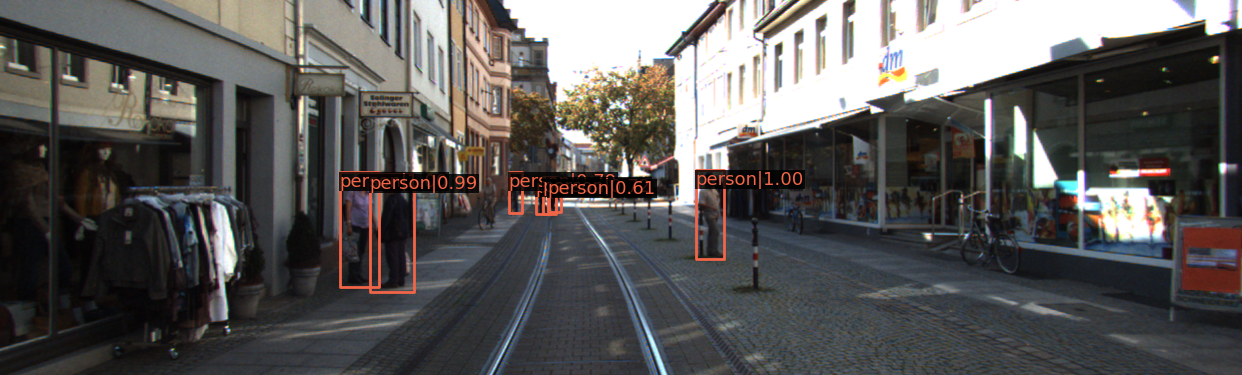person: (341, 169, 383, 286), (377, 179, 415, 291), (699, 171, 725, 258)
